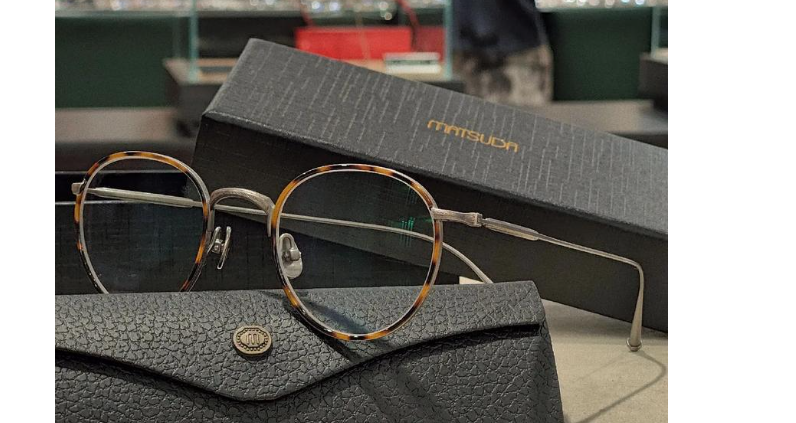glass: (57, 136, 664, 375)
